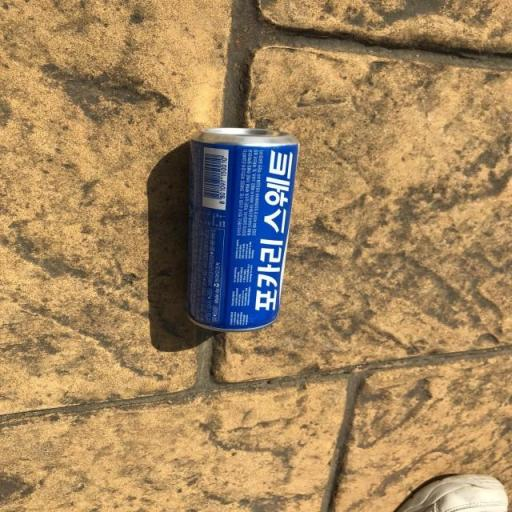metal: (177, 107, 300, 368)
